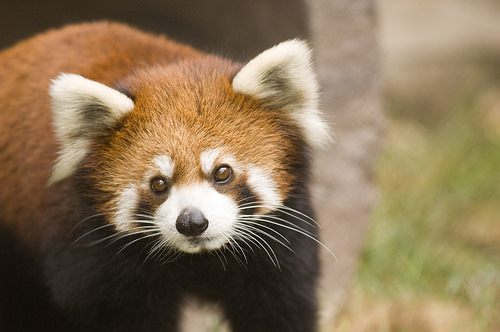red_panda: (2, 20, 339, 332)
